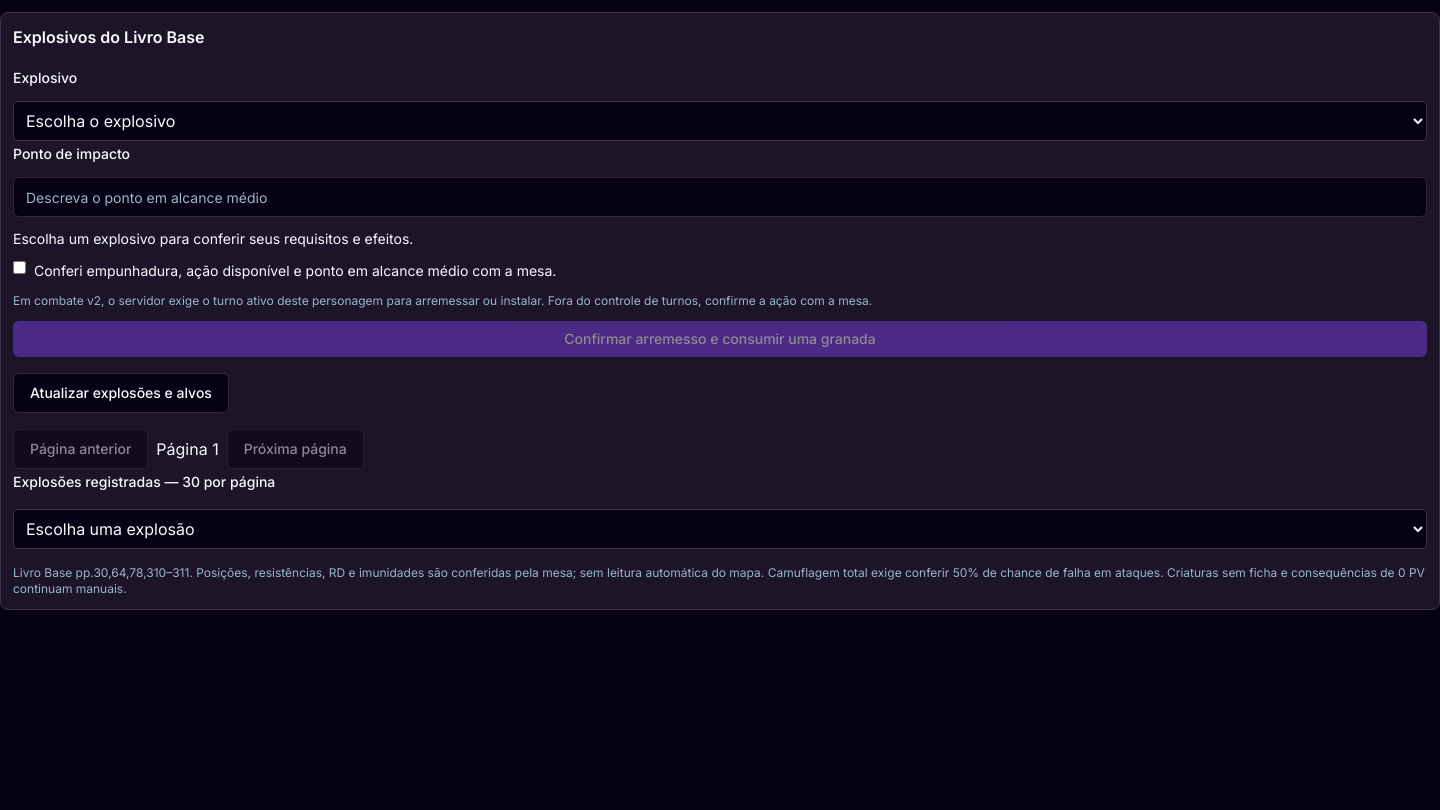
Test: Fragmentação: confirmação antes de efeitos › jogador não recebe controles de aprovação e aplicação
Select "Centro · 25 de dano · DT 14" in the dropdown labelled "Explosões registradas — 30 por página" at coordinates (720, 529), box x1=13 y1=509 x2=1427 y2=549
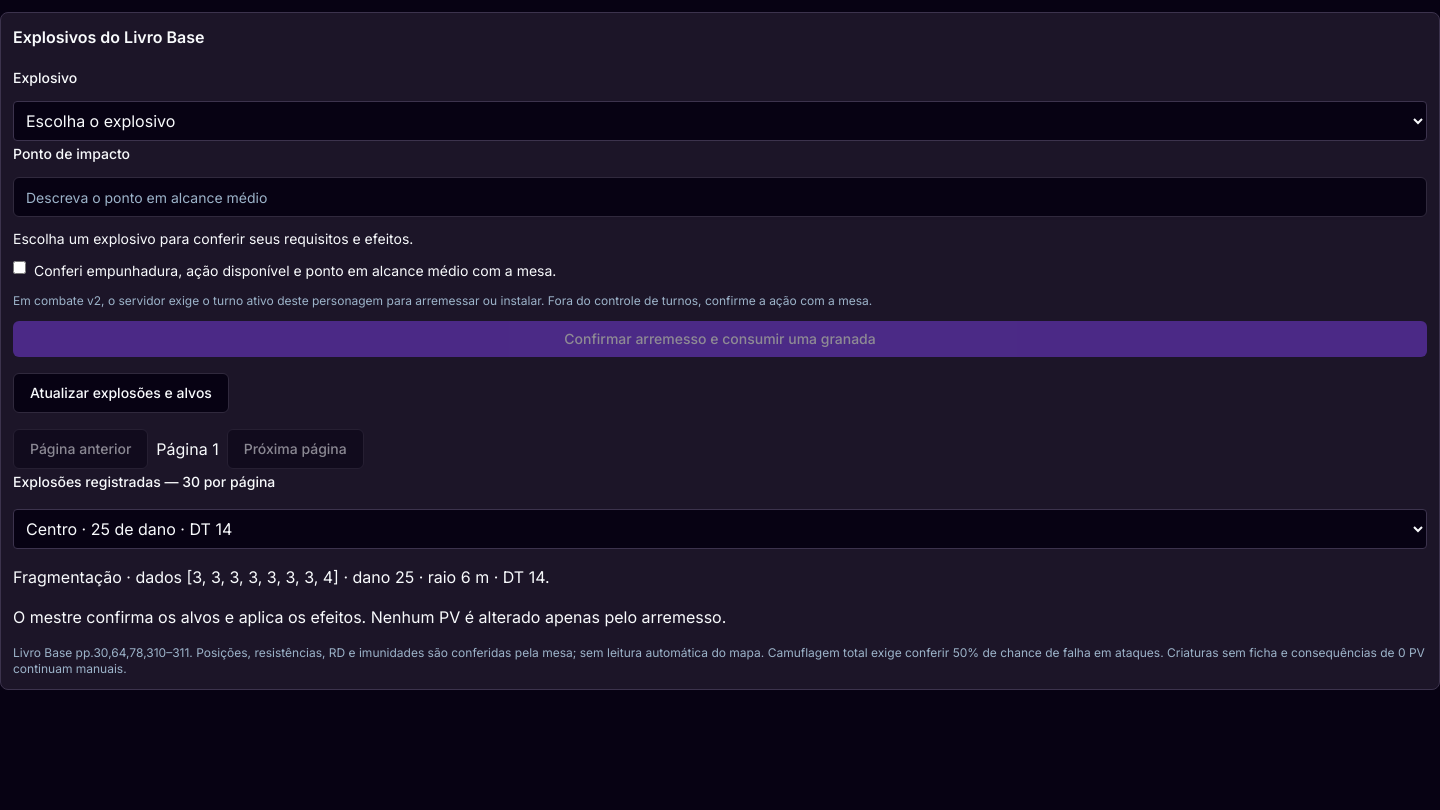
Check: the text "O mestre confirma os alvos" is shown, box x1=13 y1=607 x2=604 y2=627
